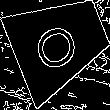O_NE: (31, 13, 88, 73)
